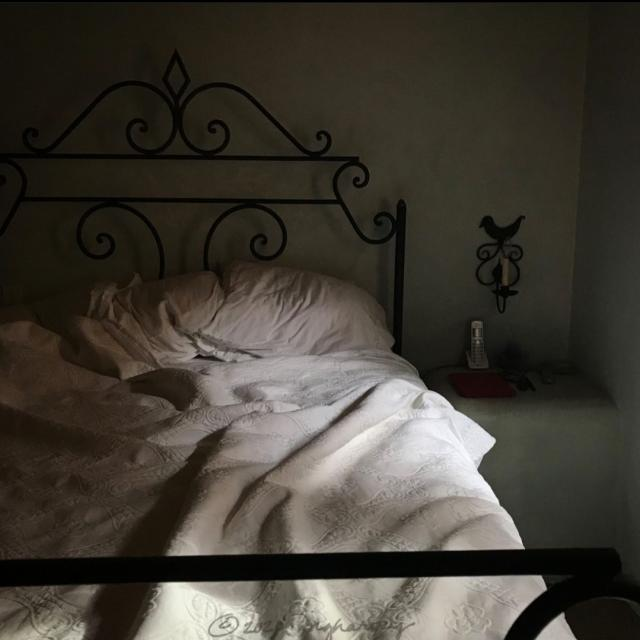bed: (9, 262, 587, 640)
